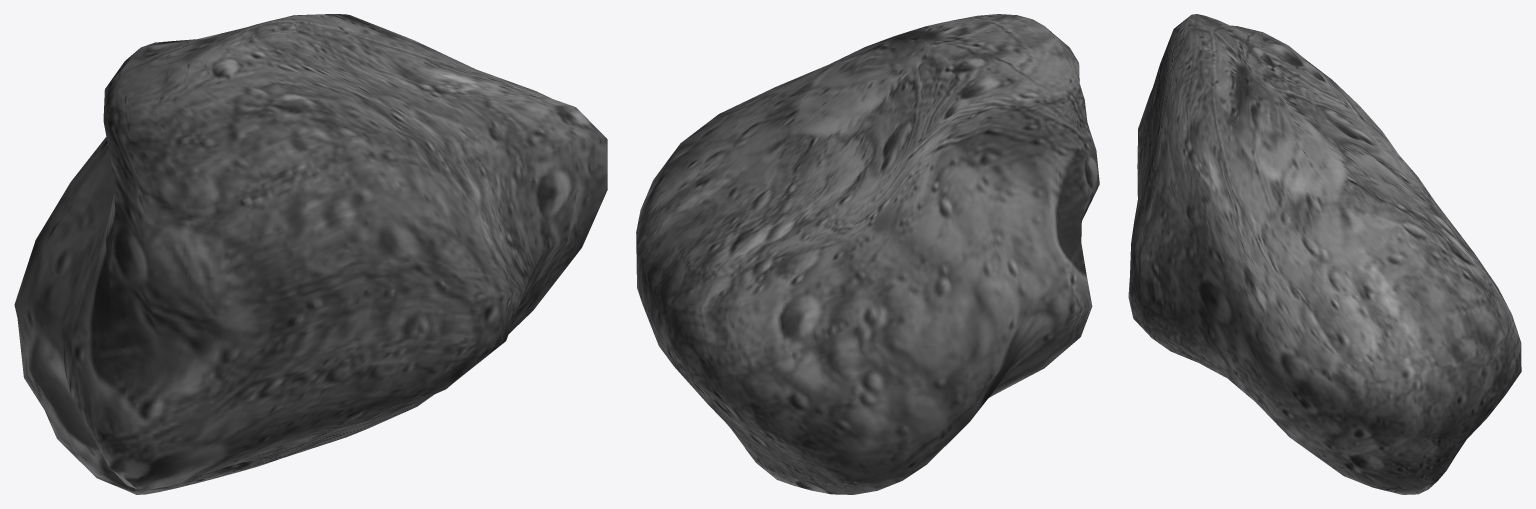
File: Asteroid2.FBX
The picture shows the model from 3 angles, left to right: view 1: azimuth 30°, elevation 25°; view 2: azimuth 150°, elevation 25°; view 3: azimuth 270°, elevation 25°; orthographic projection. The views are drawn at different scales.
Visible parts, largest first — view 1: Sphere01; view 2: Sphere01; view 3: Sphere01.
Part boxes in pixels (x1,y1,x2,y2): Sphere01: (14,14,607,494); Sphere01: (636,14,1099,494); Sphere01: (1128,14,1521,494).
Bounding box in the file's own units: 118 × 117 × 102.
1 material, 1 textured.
